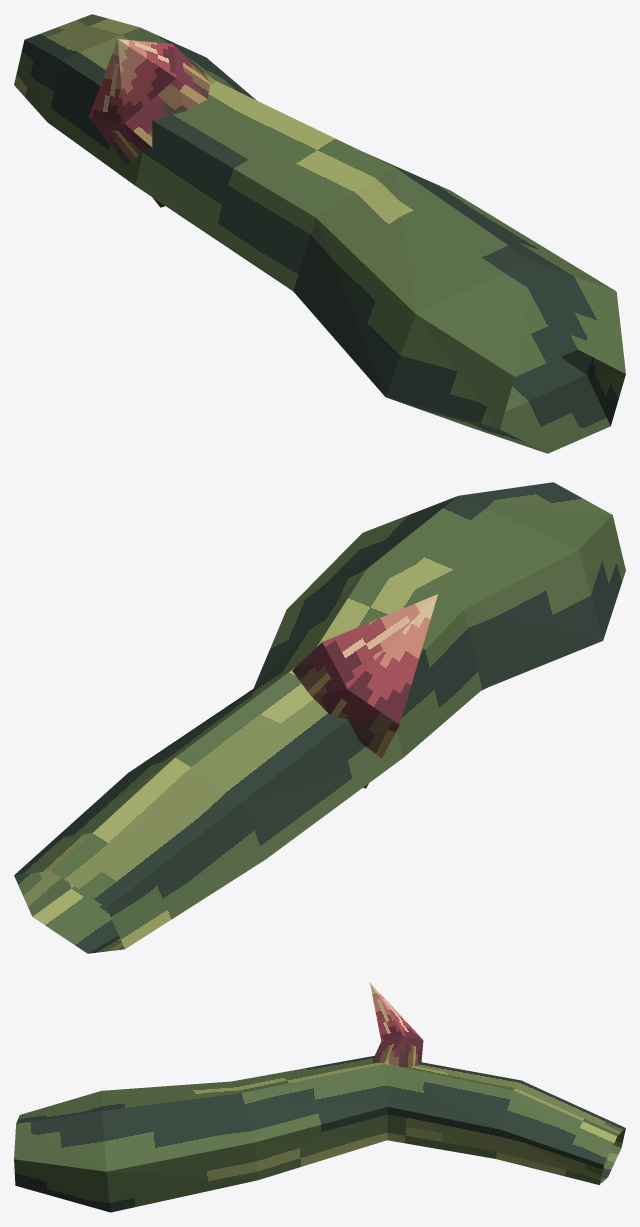
Rendered from briar_runner.obj.
The picture shows the model from 3 angles, top to bottom: view 1: azimuth 30°, elevation 25°; view 2: azimuth 150°, elevation 25°; view 3: azimuth 270°, elevation 25°; orthographic projection. The views are drawn at different scales.
Parts seen in each view (by area): view 1: runner, runner_bud; view 2: runner, runner_bud; view 3: runner, runner_bud.
Part boxes in pixels (x1=…): runner: x1=14, y1=14, x2=625, y2=453; runner_bud: x1=88, y1=39, x2=210, y2=207; runner: x1=14, y1=482, x2=625, y2=953; runner_bud: x1=292, y1=594, x2=437, y2=788; runner: x1=14, y1=1056, x2=625, y2=1212; runner_bud: x1=370, y1=983, x2=423, y2=1067.
Size of the model in its own units: 0.368 by 0.3316 by 1.1.
